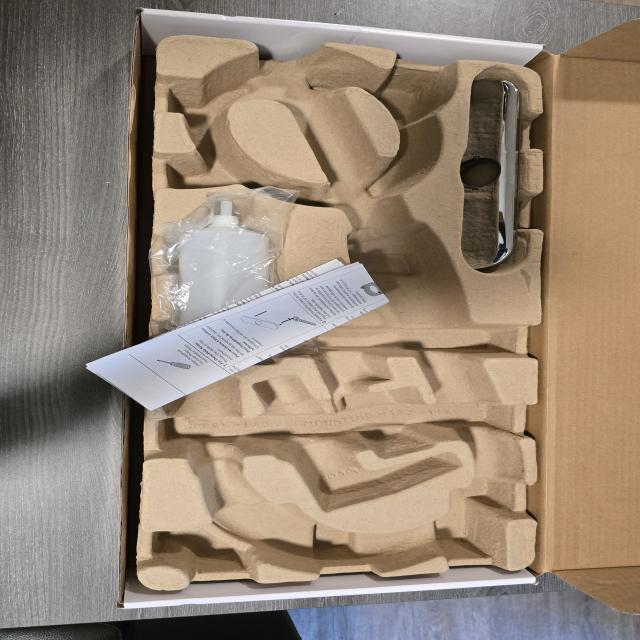1m: (174, 46, 521, 566)
2m: (250, 376, 461, 510)
3o: (178, 199, 272, 362)
4: (458, 78, 523, 270)
5m: (379, 76, 447, 122)
6m: (168, 64, 259, 129)
7m: (169, 139, 285, 194)
8: (80, 258, 393, 413)
